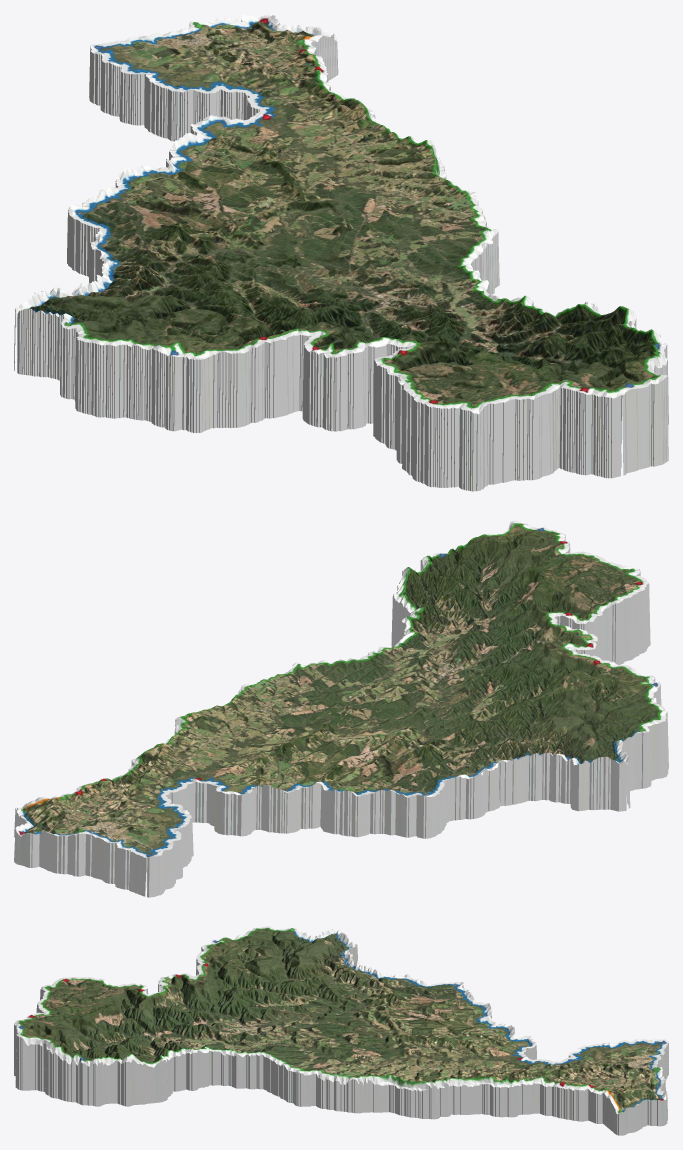
3 renders of one model, top to bottom at view 1: azimuth 30°, elevation 25°; view 2: azimuth 150°, elevation 25°; view 3: azimuth 270°, elevation 25°, orthographic. The views are drawn at different scales.
Size of the model in its own units: 1 by 0.1469 by 1.66.
1 material, 1 textured.
